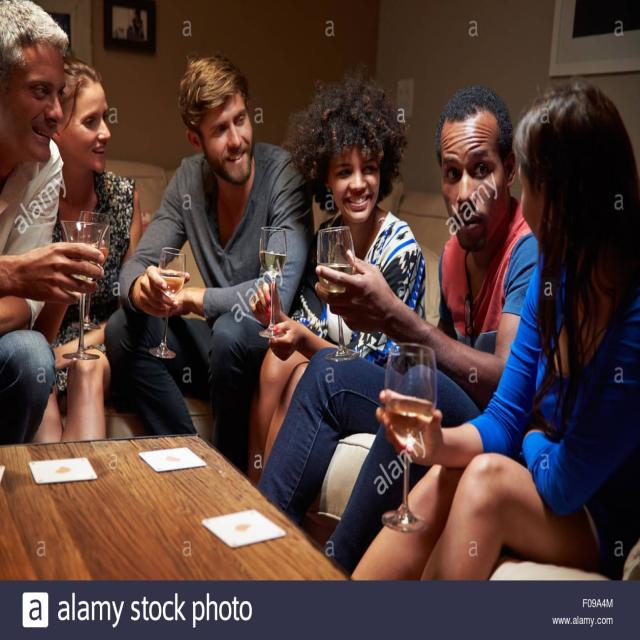body: (345, 81, 640, 582), (256, 84, 550, 578), (100, 51, 316, 482), (244, 71, 428, 491), (0, 0, 107, 445), (27, 59, 143, 444)
